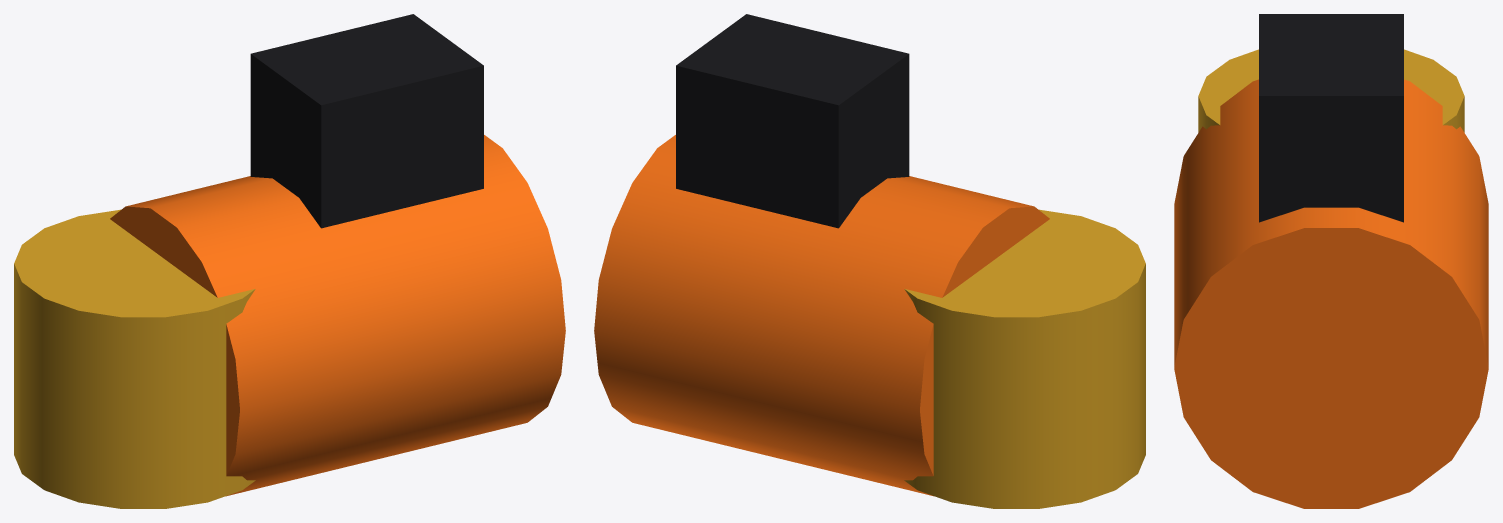
File: hot-water-recirc-pump.glb
3 renders of one model, left to right at view 1: azimuth 30°, elevation 25°; view 2: azimuth 150°, elevation 25°; view 3: azimuth 270°, elevation 25°, orthographic. The views are drawn at different scales.
Parts seen in each view (by area): view 1: plumbing-equipment-recirc-pump; view 2: plumbing-equipment-recirc-pump; view 3: plumbing-equipment-recirc-pump.
Boxes of the visible parts, <box> form: plumbing-equipment-recirc-pump: <box>14,14,565,508</box>; plumbing-equipment-recirc-pump: <box>594,14,1145,508</box>; plumbing-equipment-recirc-pump: <box>1174,14,1488,508</box>.
Size of the model in its own units: 0.2242 by 0.179 by 0.13.
